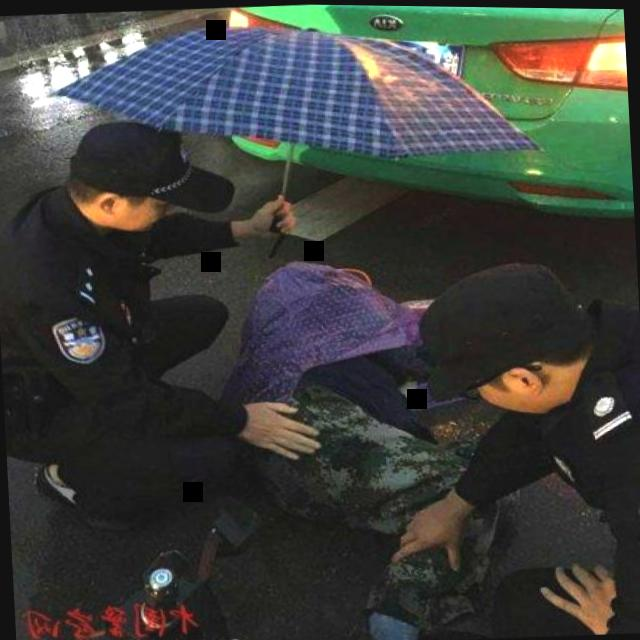Fall-Detected: (185, 226, 522, 614)
